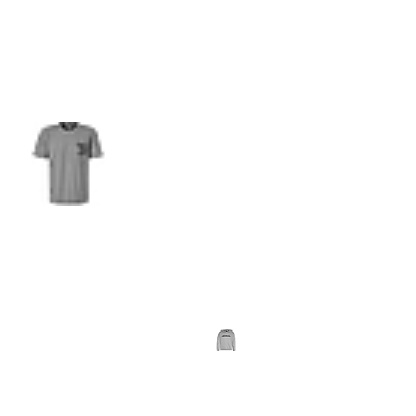Pullover: (215, 329, 237, 351)
T-shirt/top: (26, 122, 110, 206)
